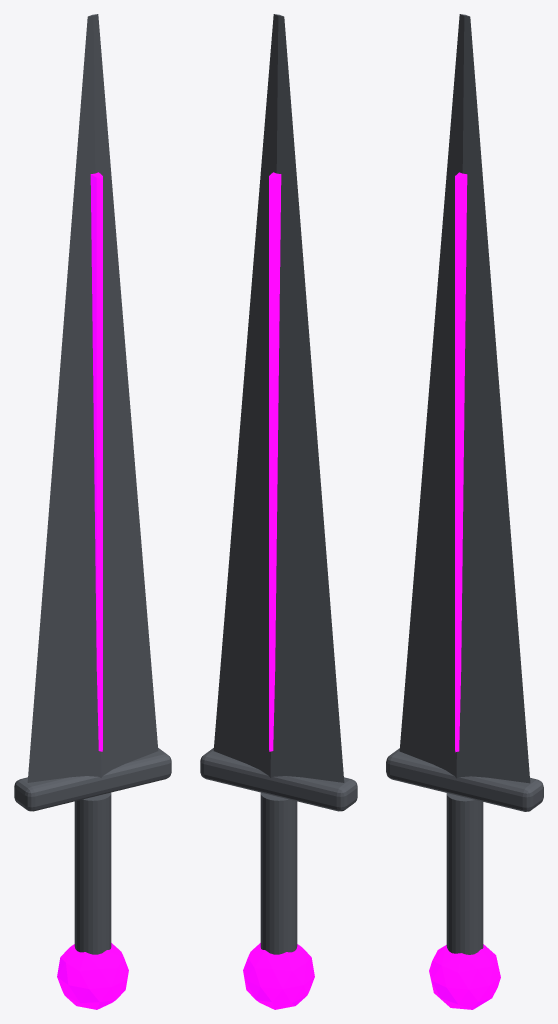
Rendered from void_staff_02_28f7.glb.
The picture shows the model from 3 angles, left to right: view 1: azimuth 30°, elevation 25°; view 2: azimuth 150°, elevation 25°; view 3: azimuth 330°, elevation 25°; orthographic projection.
Parts seen in each view (by area): view 1: Cylinder; view 2: Cylinder; view 3: Cylinder.
Part boxes in pixels (left/top/right/bottom): Cylinder: left=14, top=14, right=171, bottom=1009; Cylinder: left=200, top=14, right=357, bottom=1009; Cylinder: left=386, top=14, right=543, bottom=1009.
Size of the model in its own units: 0.22 by 1.43 by 0.096.
